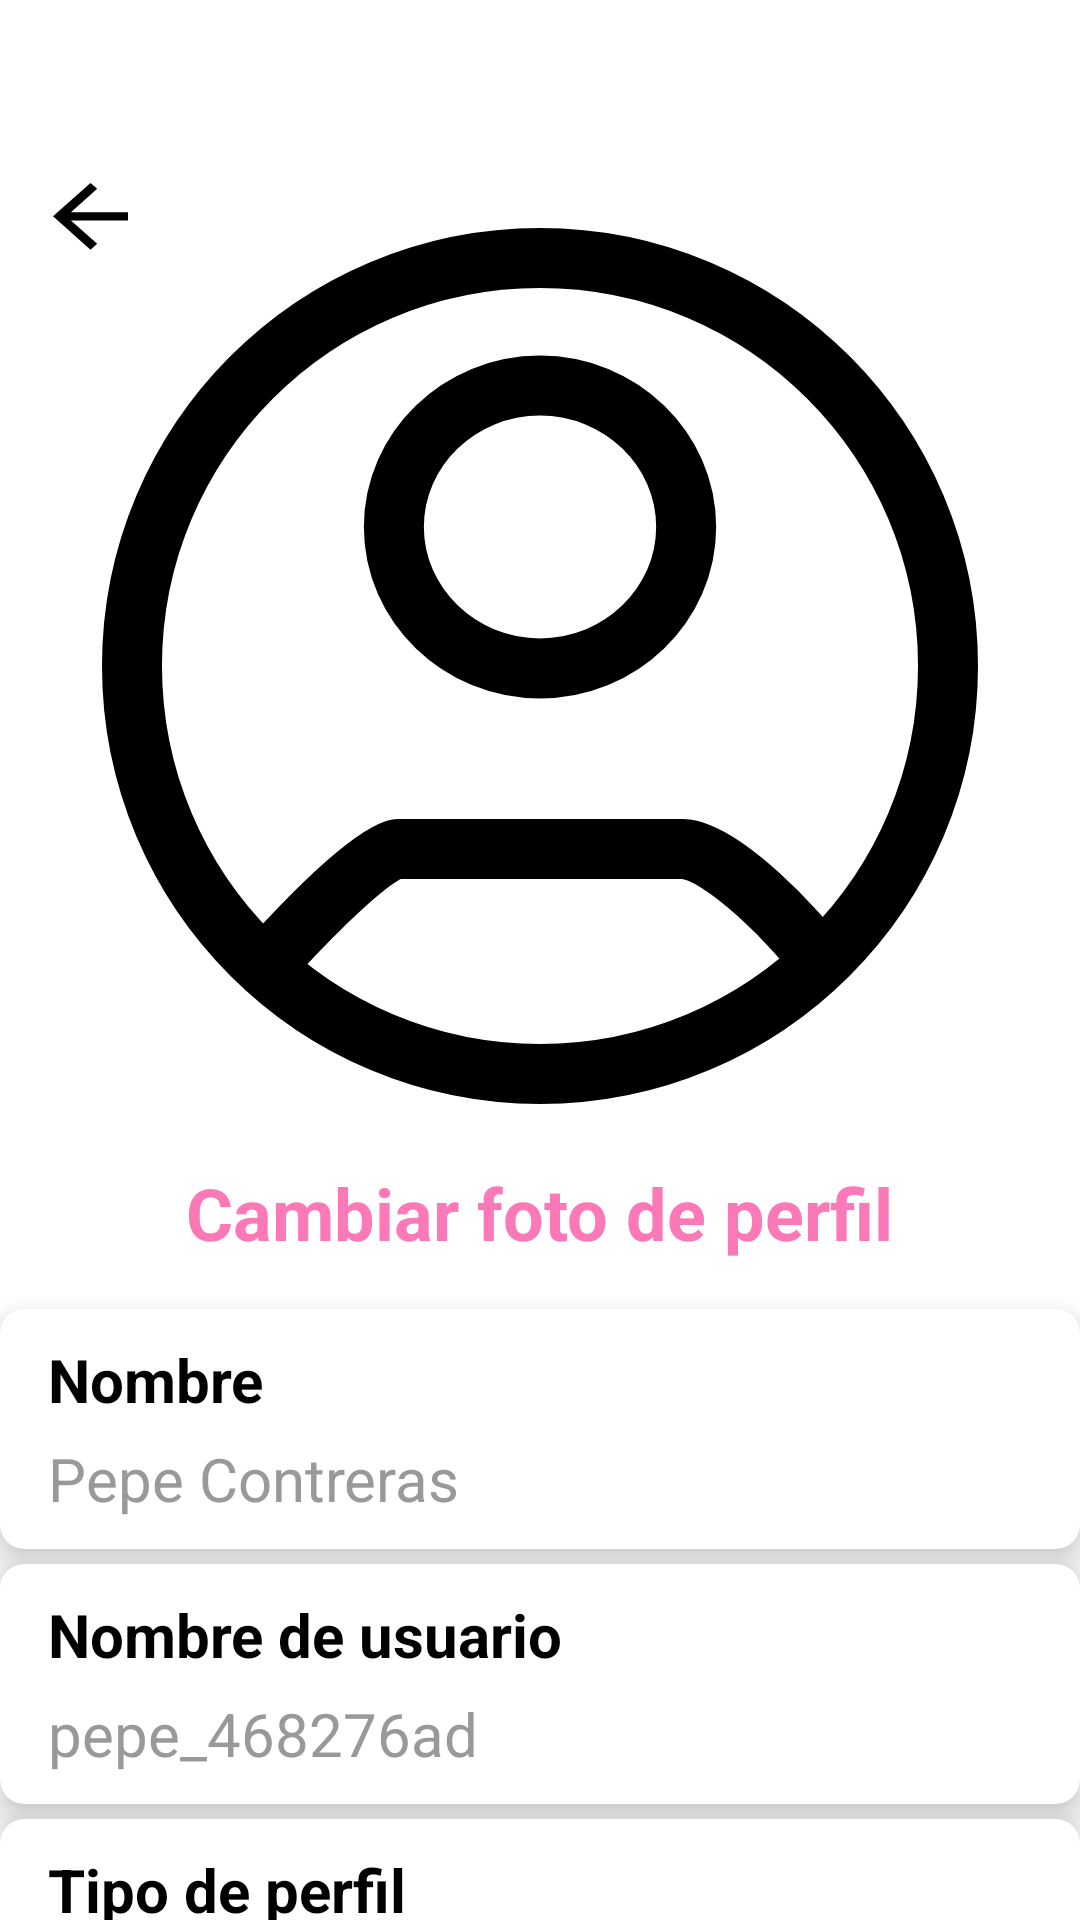

Icons on this 1080px×1920px Android screen, each with its box as (x1, y1, x2, y2):
retroceder: (53, 183, 128, 250)
